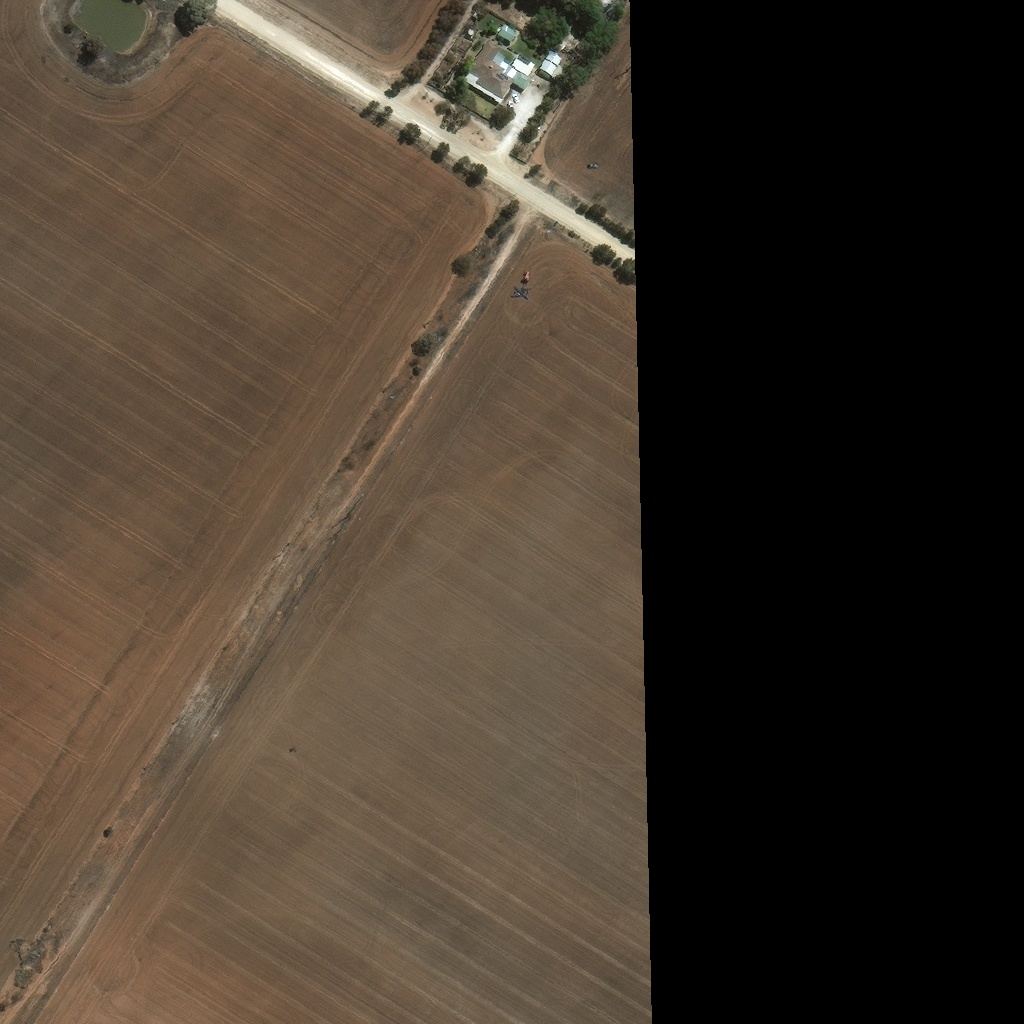0 no-damage: (465, 48, 532, 112), (490, 7, 534, 38), (498, 33, 520, 52), (539, 67, 560, 86), (546, 59, 565, 75)
